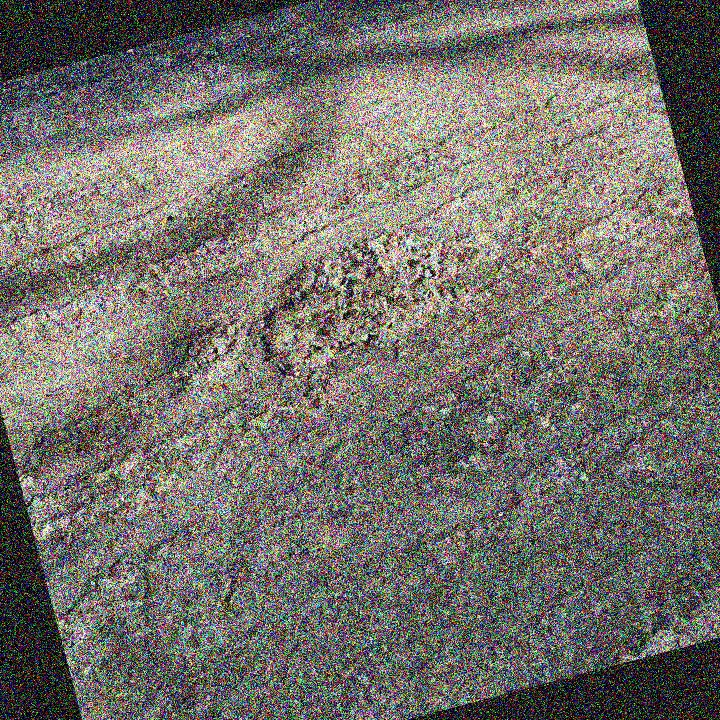pothole: (240, 226, 461, 379), (163, 313, 265, 396)
